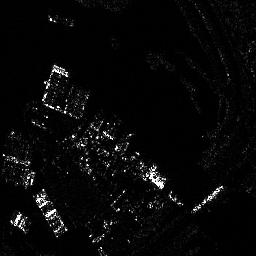ship: (190, 185, 225, 212)
